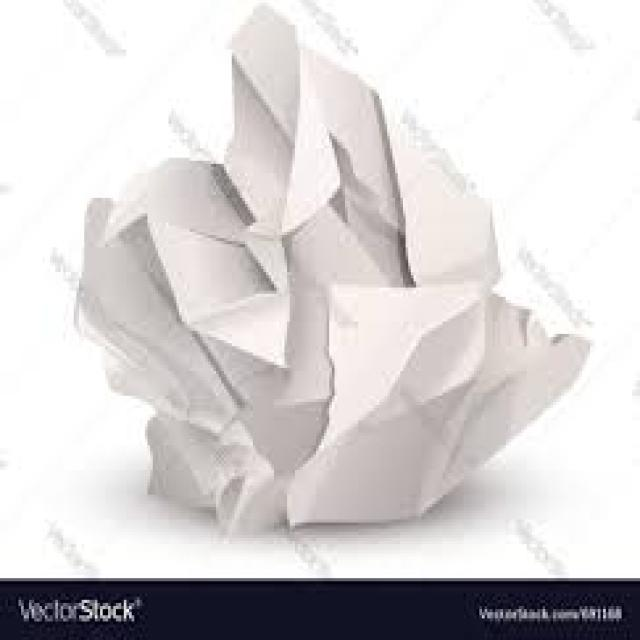paper: (71, 0, 593, 529)
